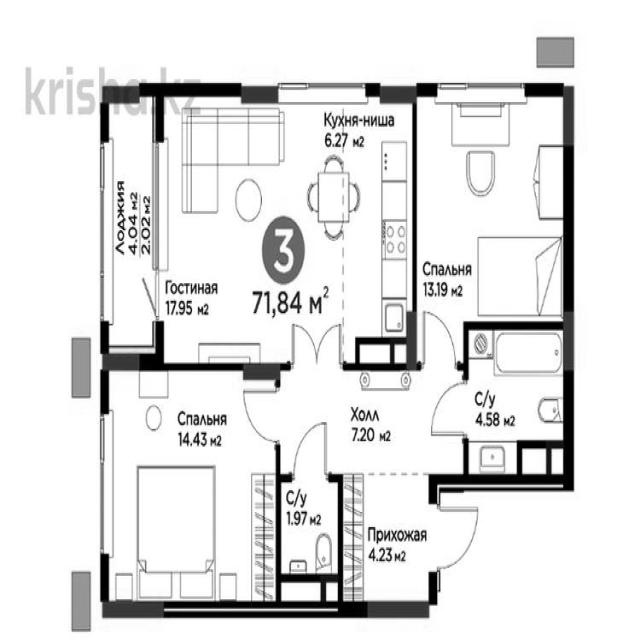balcony: (104, 85, 160, 366)
bathroom: (466, 322, 568, 482), (276, 473, 342, 609)
hallway: (277, 363, 468, 475), (342, 477, 433, 610)
living_room: (105, 367, 279, 609), (413, 89, 568, 324)
studio: (160, 86, 414, 366)
